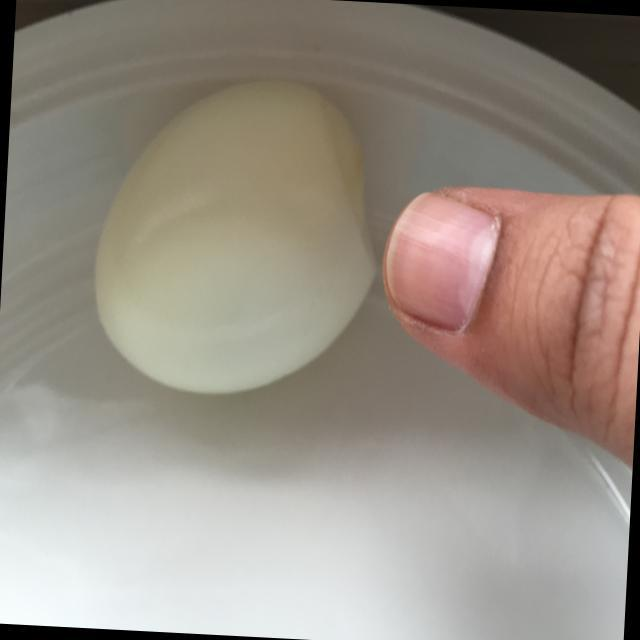Egg: (77, 65, 390, 418)
Finger: (368, 174, 640, 443)
